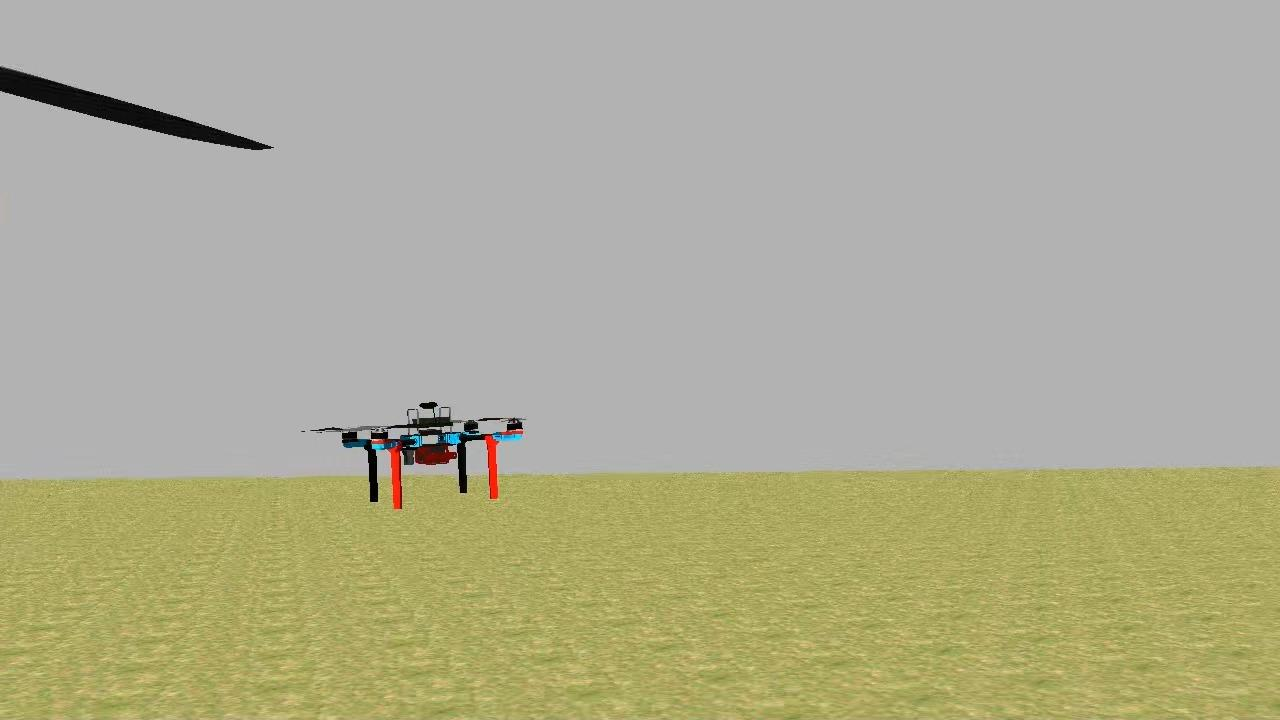UAV: (346, 396, 528, 512)
